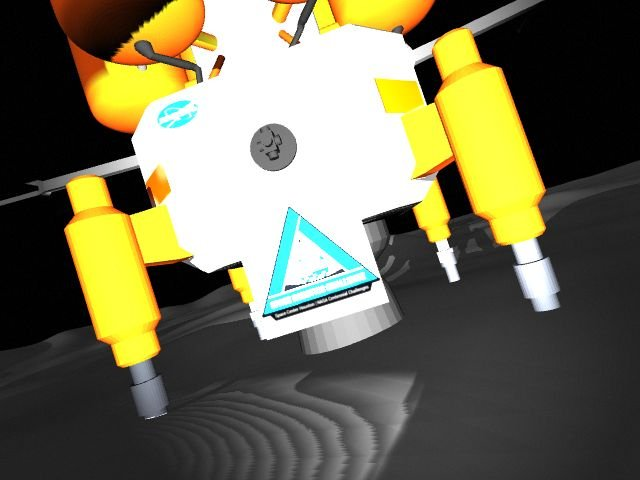basemarker: (262, 206, 381, 321)
